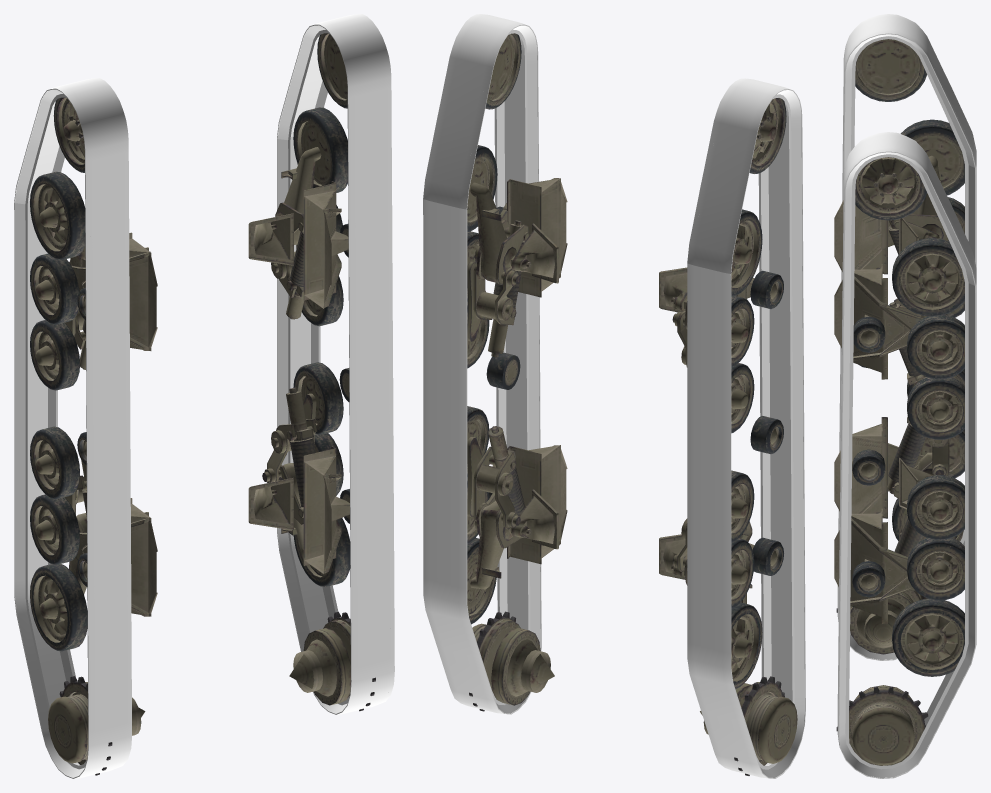
File: Chassis.glb
3 renders of one model, left to right at view 1: azimuth 30°, elevation 25°; view 2: azimuth 150°, elevation 25°; view 3: azimuth 270°, elevation 25°, orthographic. The views are drawn at different scales.
Visible parts, largest first — view 1: set_1_group_0, set_0_group_0, set_3_group_0, set_2_group_0; view 2: set_1_group_0, set_0_group_0, set_3_group_0, set_2_group_0; view 3: set_3_group_0, set_2_group_0, set_0_group_0, set_1_group_0.
Boxes of the visible parts, left/top/right/bottom form: set_1_group_0: left=14, top=78, right=131, bottom=778; set_0_group_0: left=277, top=14, right=394, bottom=714; set_3_group_0: left=248, top=33, right=375, bottom=711; set_2_group_0: left=30, top=97, right=157, bottom=775; set_1_group_0: left=687, top=78, right=805, bottom=778; set_0_group_0: left=423, top=14, right=541, bottom=714; set_3_group_0: left=467, top=33, right=567, bottom=711; set_2_group_0: left=659, top=98, right=797, bottom=775; set_3_group_0: left=834, top=157, right=964, bottom=765; set_2_group_0: left=834, top=39, right=964, bottom=654; set_0_group_0: left=837, top=132, right=976, bottom=778; set_1_group_0: left=837, top=14, right=976, bottom=660.
Bounding box in the file's own units: 2.53 × 5.36 × 1.1.
Materials: 4 (2 with a texture image).
